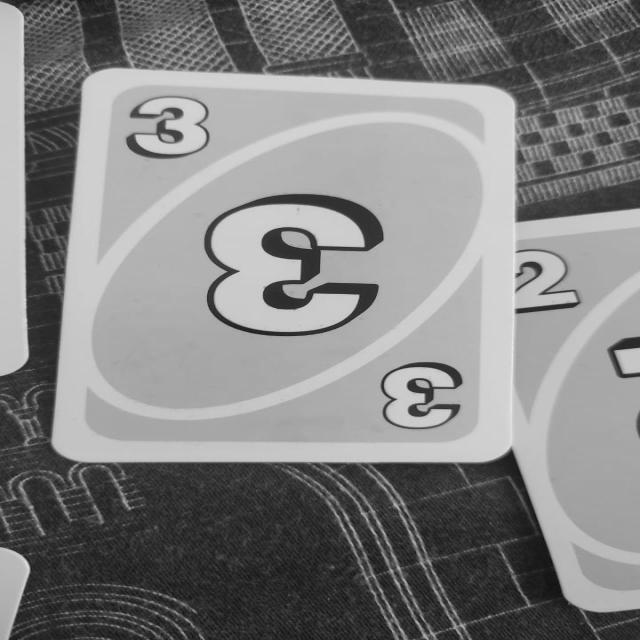card_2: (512, 205, 640, 615)
card_3: (49, 66, 516, 464)
